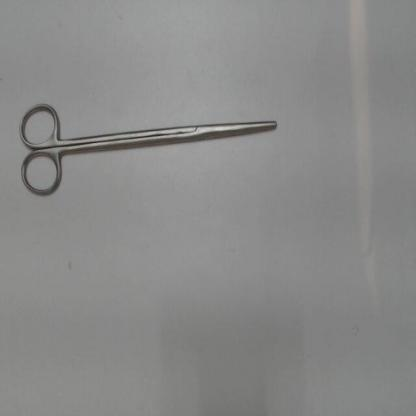9 Metzenbaum Scissors: (17, 97, 279, 202)
